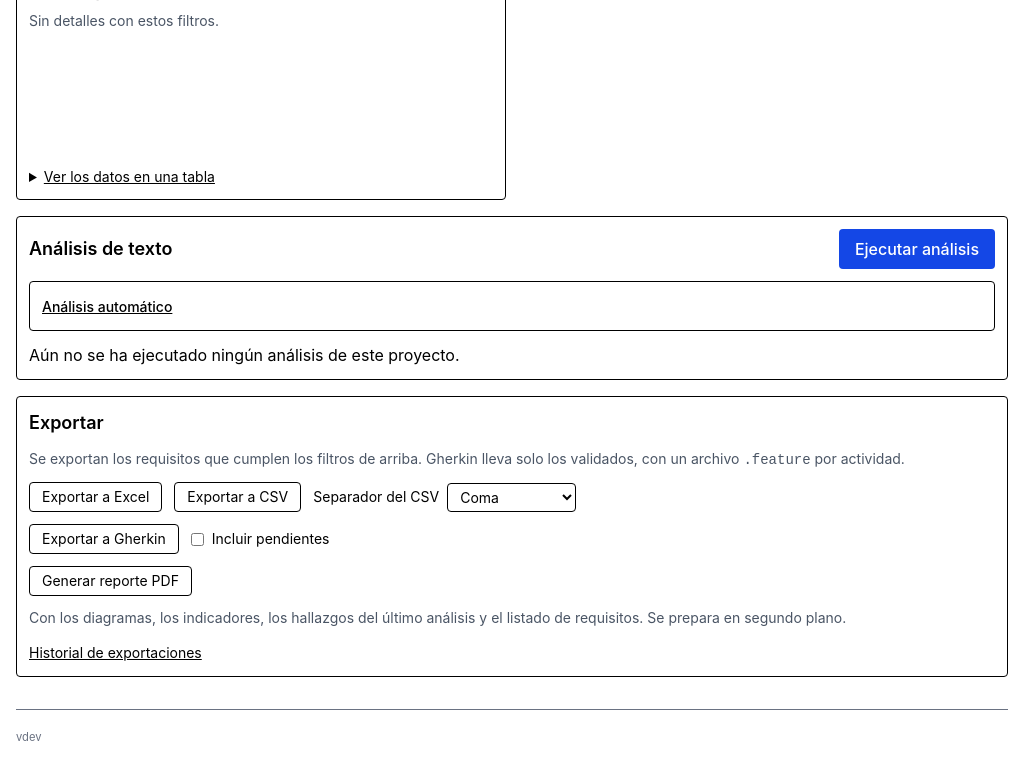
Test: exportación inmediata › sin requisitos con esos filtros lo avisa, y el archivo se entrega igual
(page scrolled)
Click the button "Exportar a CSV" at (238, 497), box [174, 482, 301, 512]
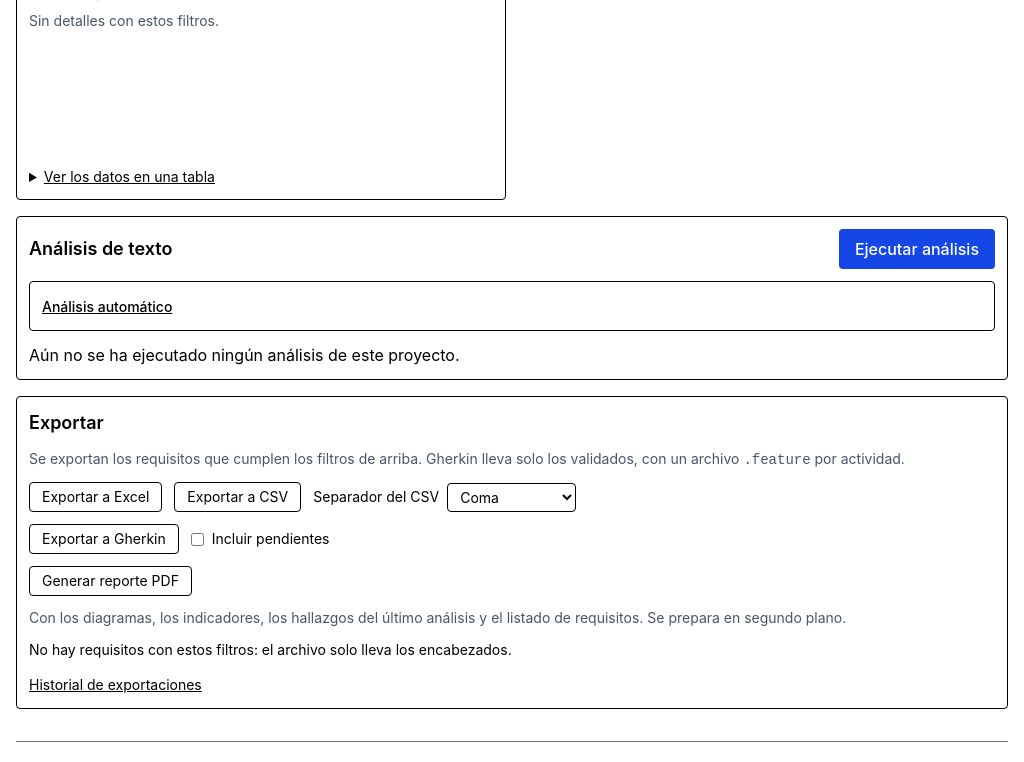
Check: the message shows "No hay requisitos con estos filtros", box [29, 641, 512, 658]
